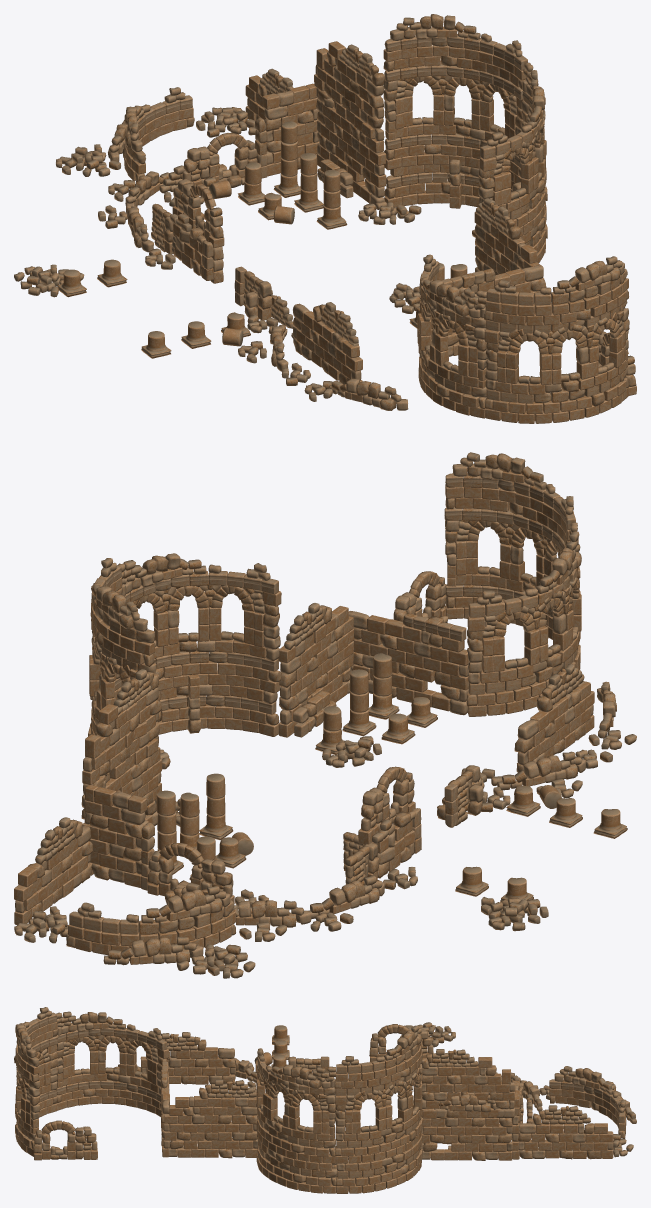
File: ruinsB.glb
The picture shows the model from 3 angles, top to bottom: view 1: azimuth 30°, elevation 25°; view 2: azimuth 150°, elevation 25°; view 3: azimuth 270°, elevation 25°; orthographic projection. The views are drawn at different scales.
Visible parts, largest first — view 1: polySurface5; view 2: polySurface5; view 3: polySurface5.
Part boxes in pixels (x1,y1,x2,y2): polySurface5: (14,14,636,423); polySurface5: (14,452,636,978); polySurface5: (14,1007,636,1193).
Size of what is drawn, in the model's own units: 2.03 by 0.8372 by 3.21.
Materials: 1 (1 with a texture image).
